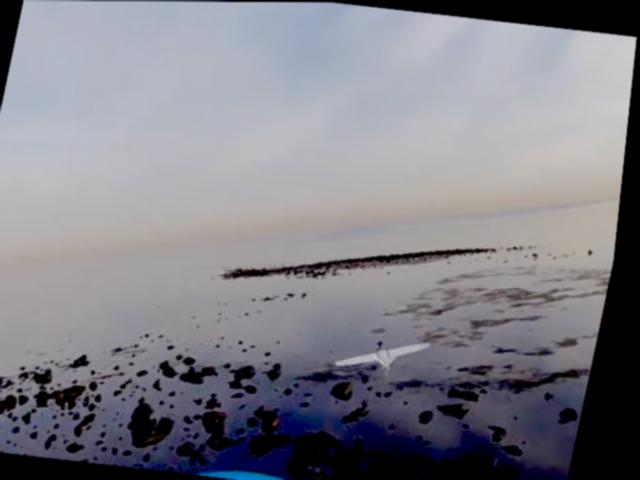uav: (341, 324, 447, 386)
